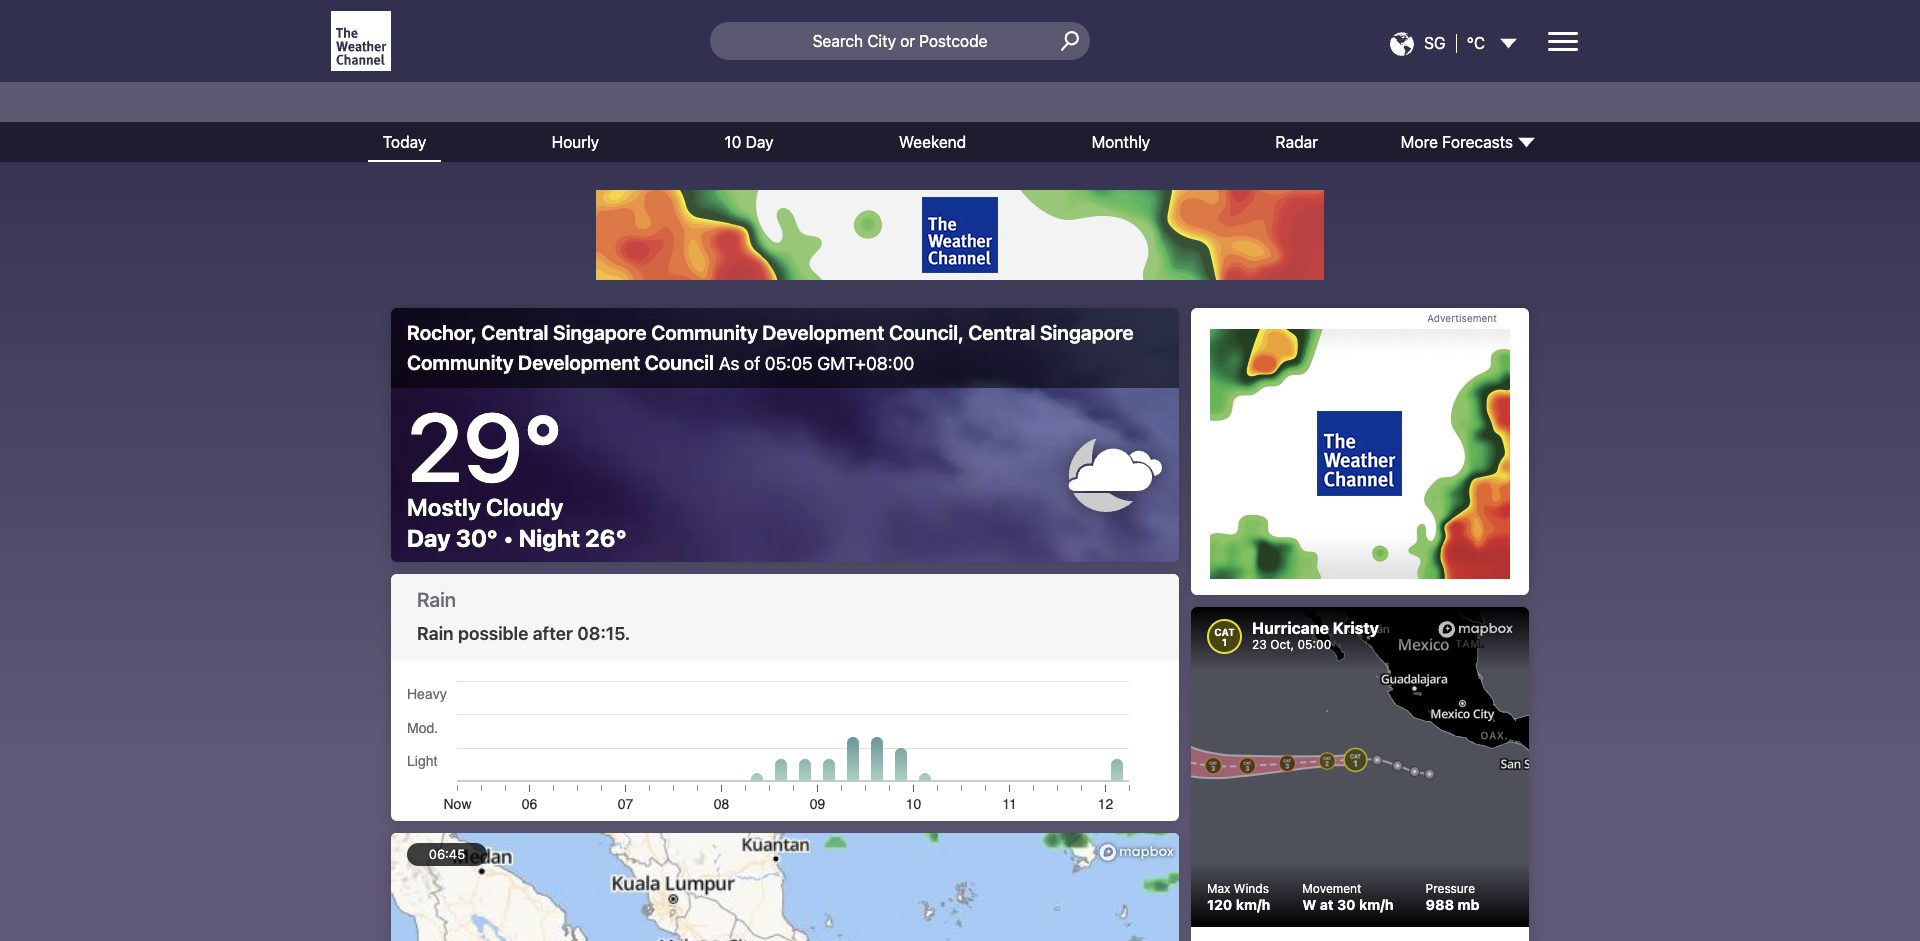button: (391, 573, 1179, 821), (391, 833, 1179, 941), (386, 843, 1174, 864), (1381, 123, 1600, 162), (1176, 620, 1513, 641), (326, 6, 396, 76), (1374, 31, 1523, 56), (884, 123, 981, 162), (1076, 123, 1166, 162), (709, 123, 789, 162), (536, 123, 615, 162), (367, 123, 441, 162), (1260, 123, 1333, 162), (1438, 621, 1513, 641), (1100, 844, 1174, 864), (1548, 31, 1578, 61), (1513, 134, 1536, 151)
input: (710, 22, 1090, 60)
label: (709, 21, 710, 22)
link: (1191, 607, 1529, 928), (1180, 652, 1509, 668), (1180, 668, 1509, 682), (1180, 682, 1509, 697)
